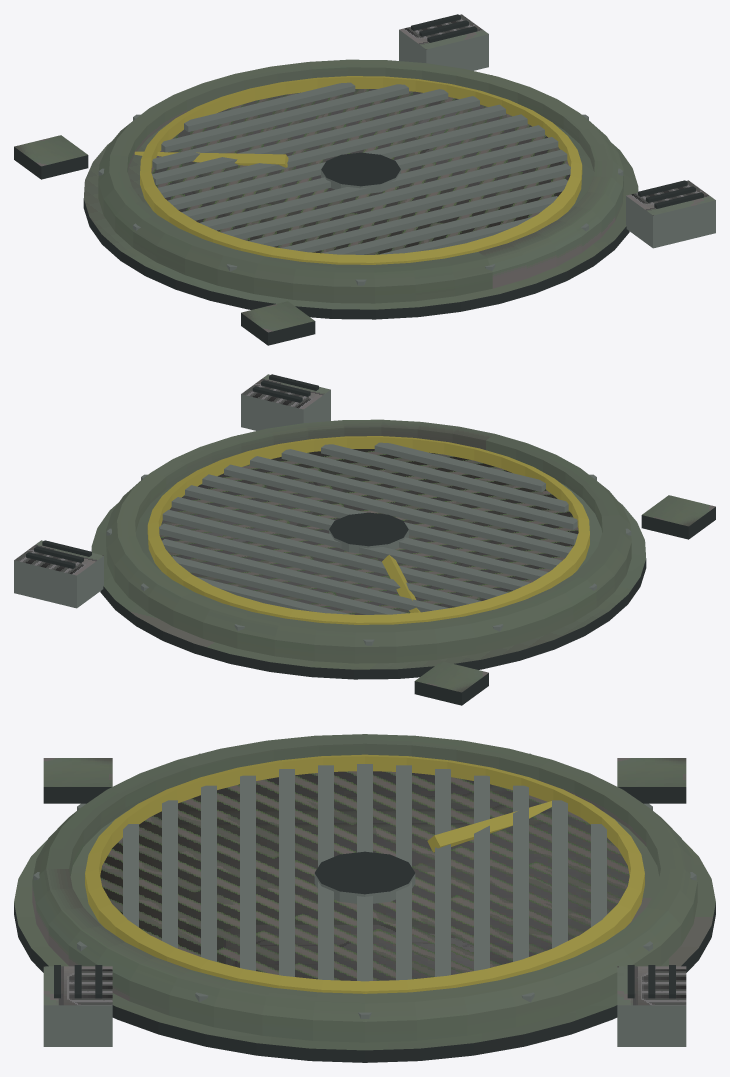
File: Building_AncientToxVent.glb
The picture shows the model from 3 angles, top to bottom: view 1: azimuth 30°, elevation 25°; view 2: azimuth 150°, elevation 25°; view 3: azimuth 270°, elevation 25°; orthographic projection. The views are drawn at different scales.
Visible parts, largest first — view 1: AncientToxVent; view 2: AncientToxVent; view 3: AncientToxVent.
Boxes of the visible parts, x1,y1,x2,y2 form: AncientToxVent: (14,14,715,345); AncientToxVent: (14,374,715,705); AncientToxVent: (14,734,715,1062).
Size of the model in its own units: 3.06 by 0.27 by 3.06.
Materials: 1 (1 with a texture image).
